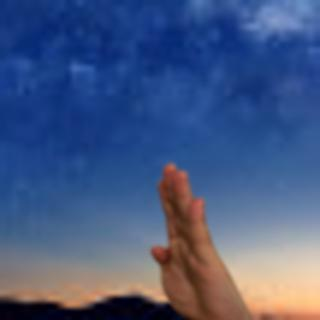RIGHT: (145, 156, 254, 320)
